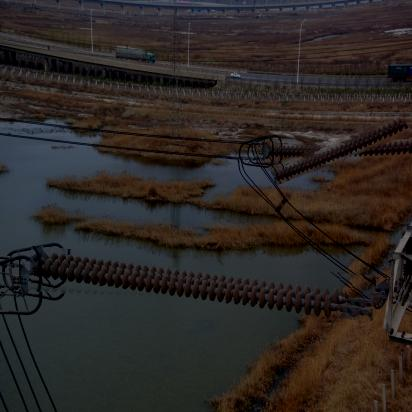insulator: (30, 255, 377, 315), (270, 128, 412, 174)
